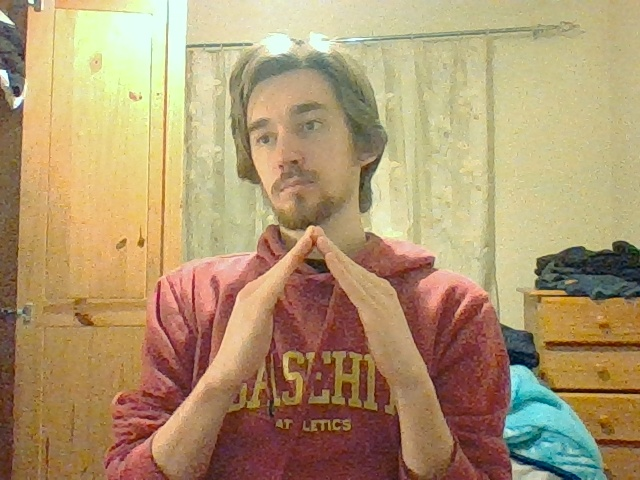home: (235, 225, 398, 334)
